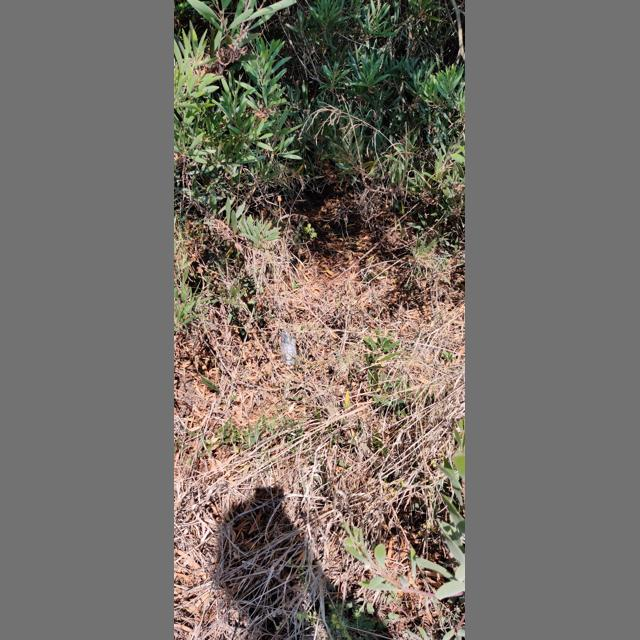litter: (281, 331, 298, 365)
